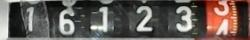digits: (212, 0, 232, 38), (95, 5, 114, 35), (135, 5, 153, 32), (175, 5, 192, 32), (58, 8, 75, 35), (26, 6, 34, 31)
